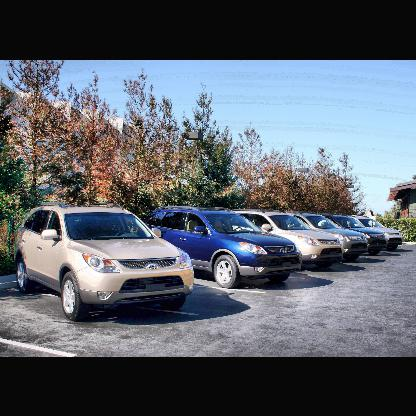Hyundai Veracruz SUV 2012: (22, 203, 195, 321)
